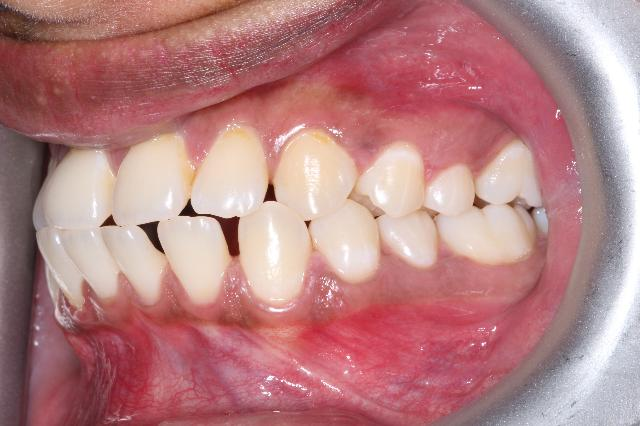canine class I: (234, 124, 380, 312)
molar class III 1/2: (433, 137, 543, 270)
